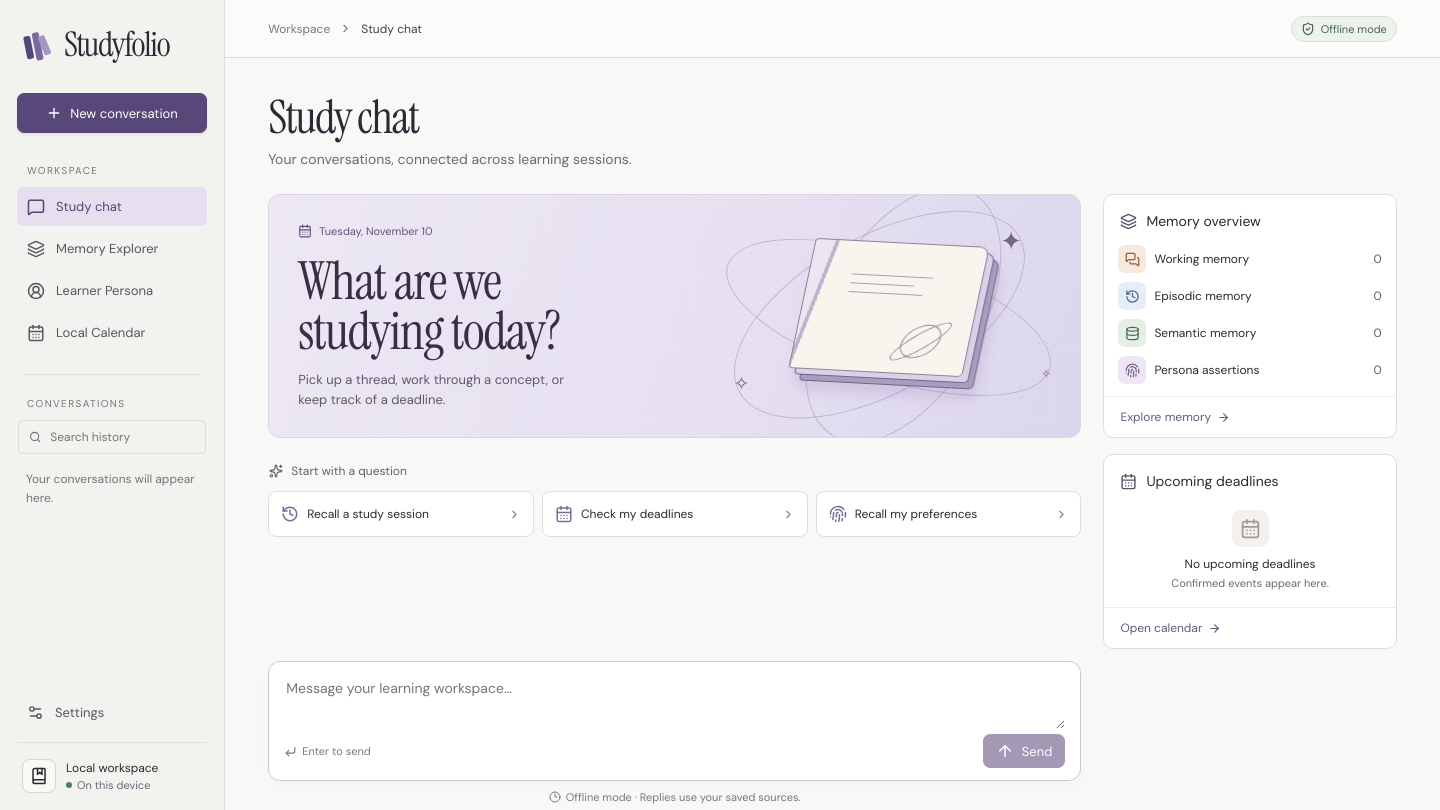
Scenario: Local workspace › opens the chat empty state and fills an example without storing a turn
Check: the heading named "What are we studying today" is shown, box [298, 247, 560, 365]
Click the button "Check my deadlines" at (675, 514), box [542, 491, 808, 537]
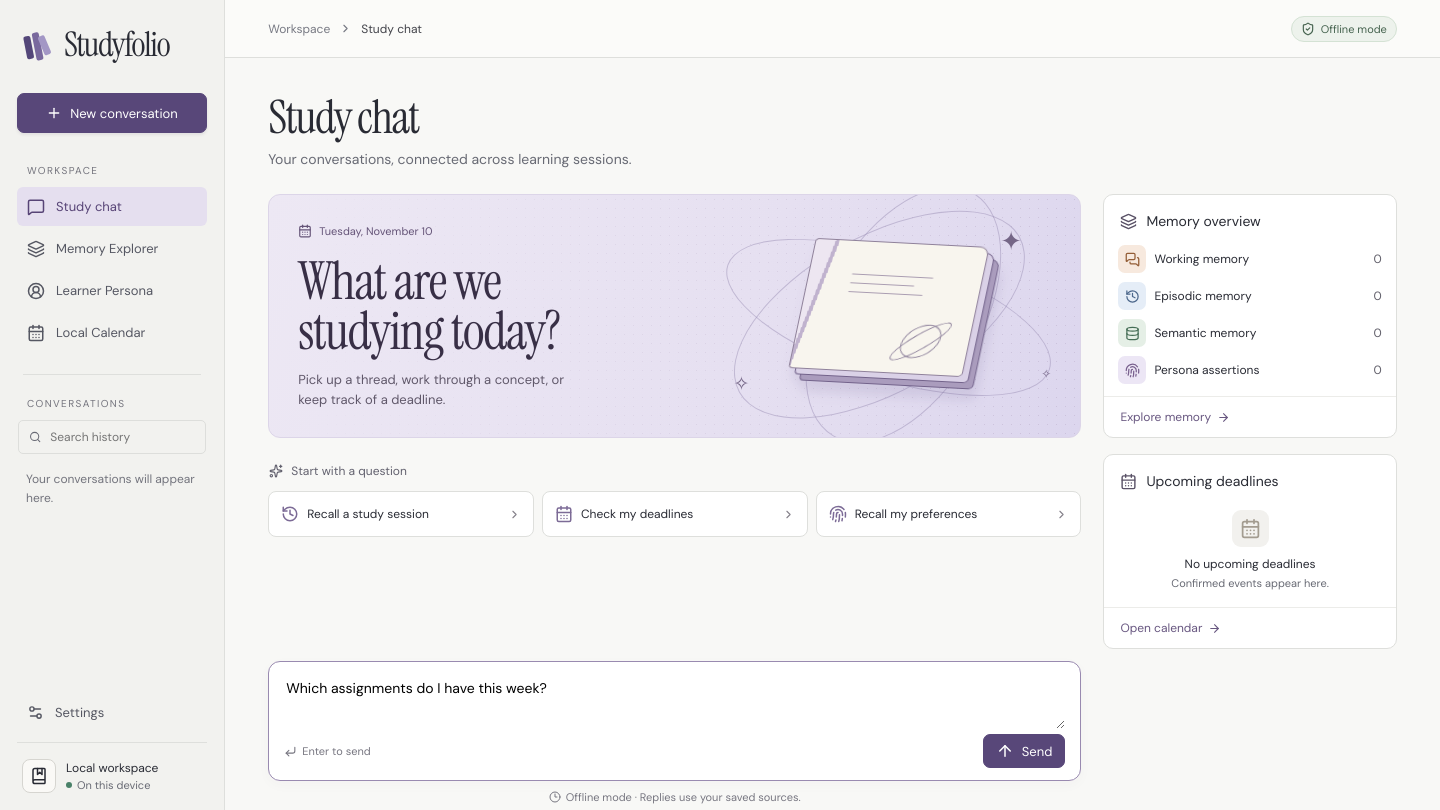
Check: the text box named "Your message" holds "Which assignments do I have this week?", box [284, 677, 1065, 729]
